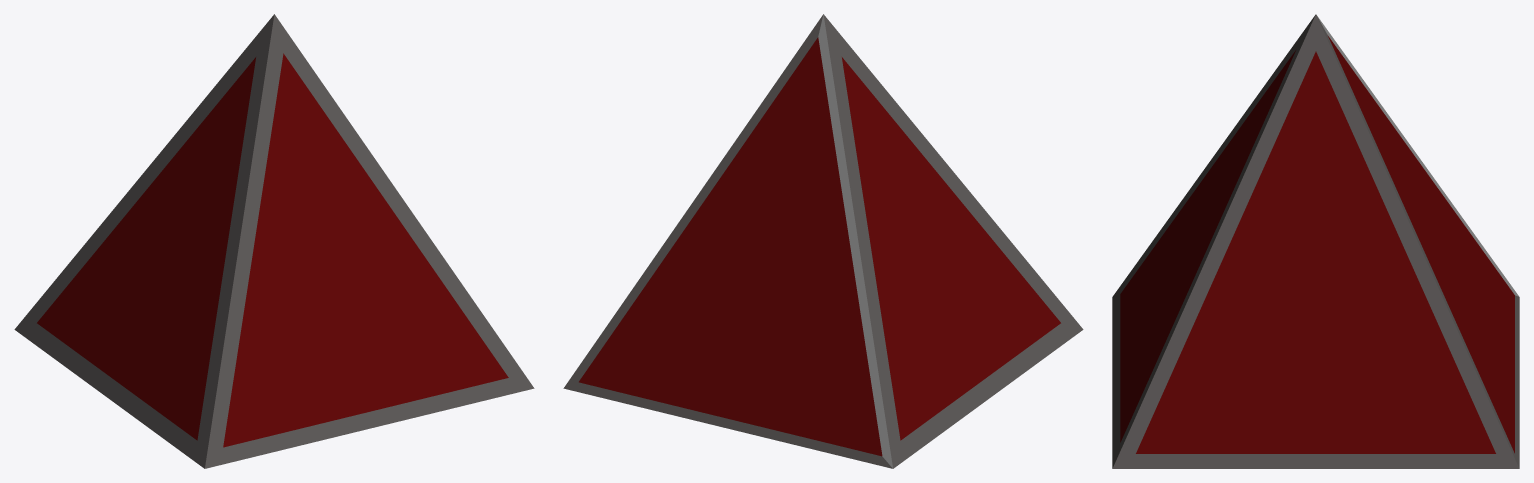
The model's file is AreaSelectorIndicator.FBX.
3 renders of one model, left to right at view 1: azimuth 30°, elevation 25°; view 2: azimuth 150°, elevation 25°; view 3: azimuth 270°, elevation 25°, orthographic. The views are drawn at different scales.
Visible parts, largest first — view 1: ArrowIndicator; view 2: ArrowIndicator; view 3: ArrowIndicator.
Boxes of the visible parts, left/top/right/bottom form: ArrowIndicator: left=14, top=14, right=534, bottom=468; ArrowIndicator: left=563, top=14, right=1083, bottom=468; ArrowIndicator: left=1112, top=14, right=1519, bottom=468.
Size of the model in its own units: 40 by 40 by 40.
